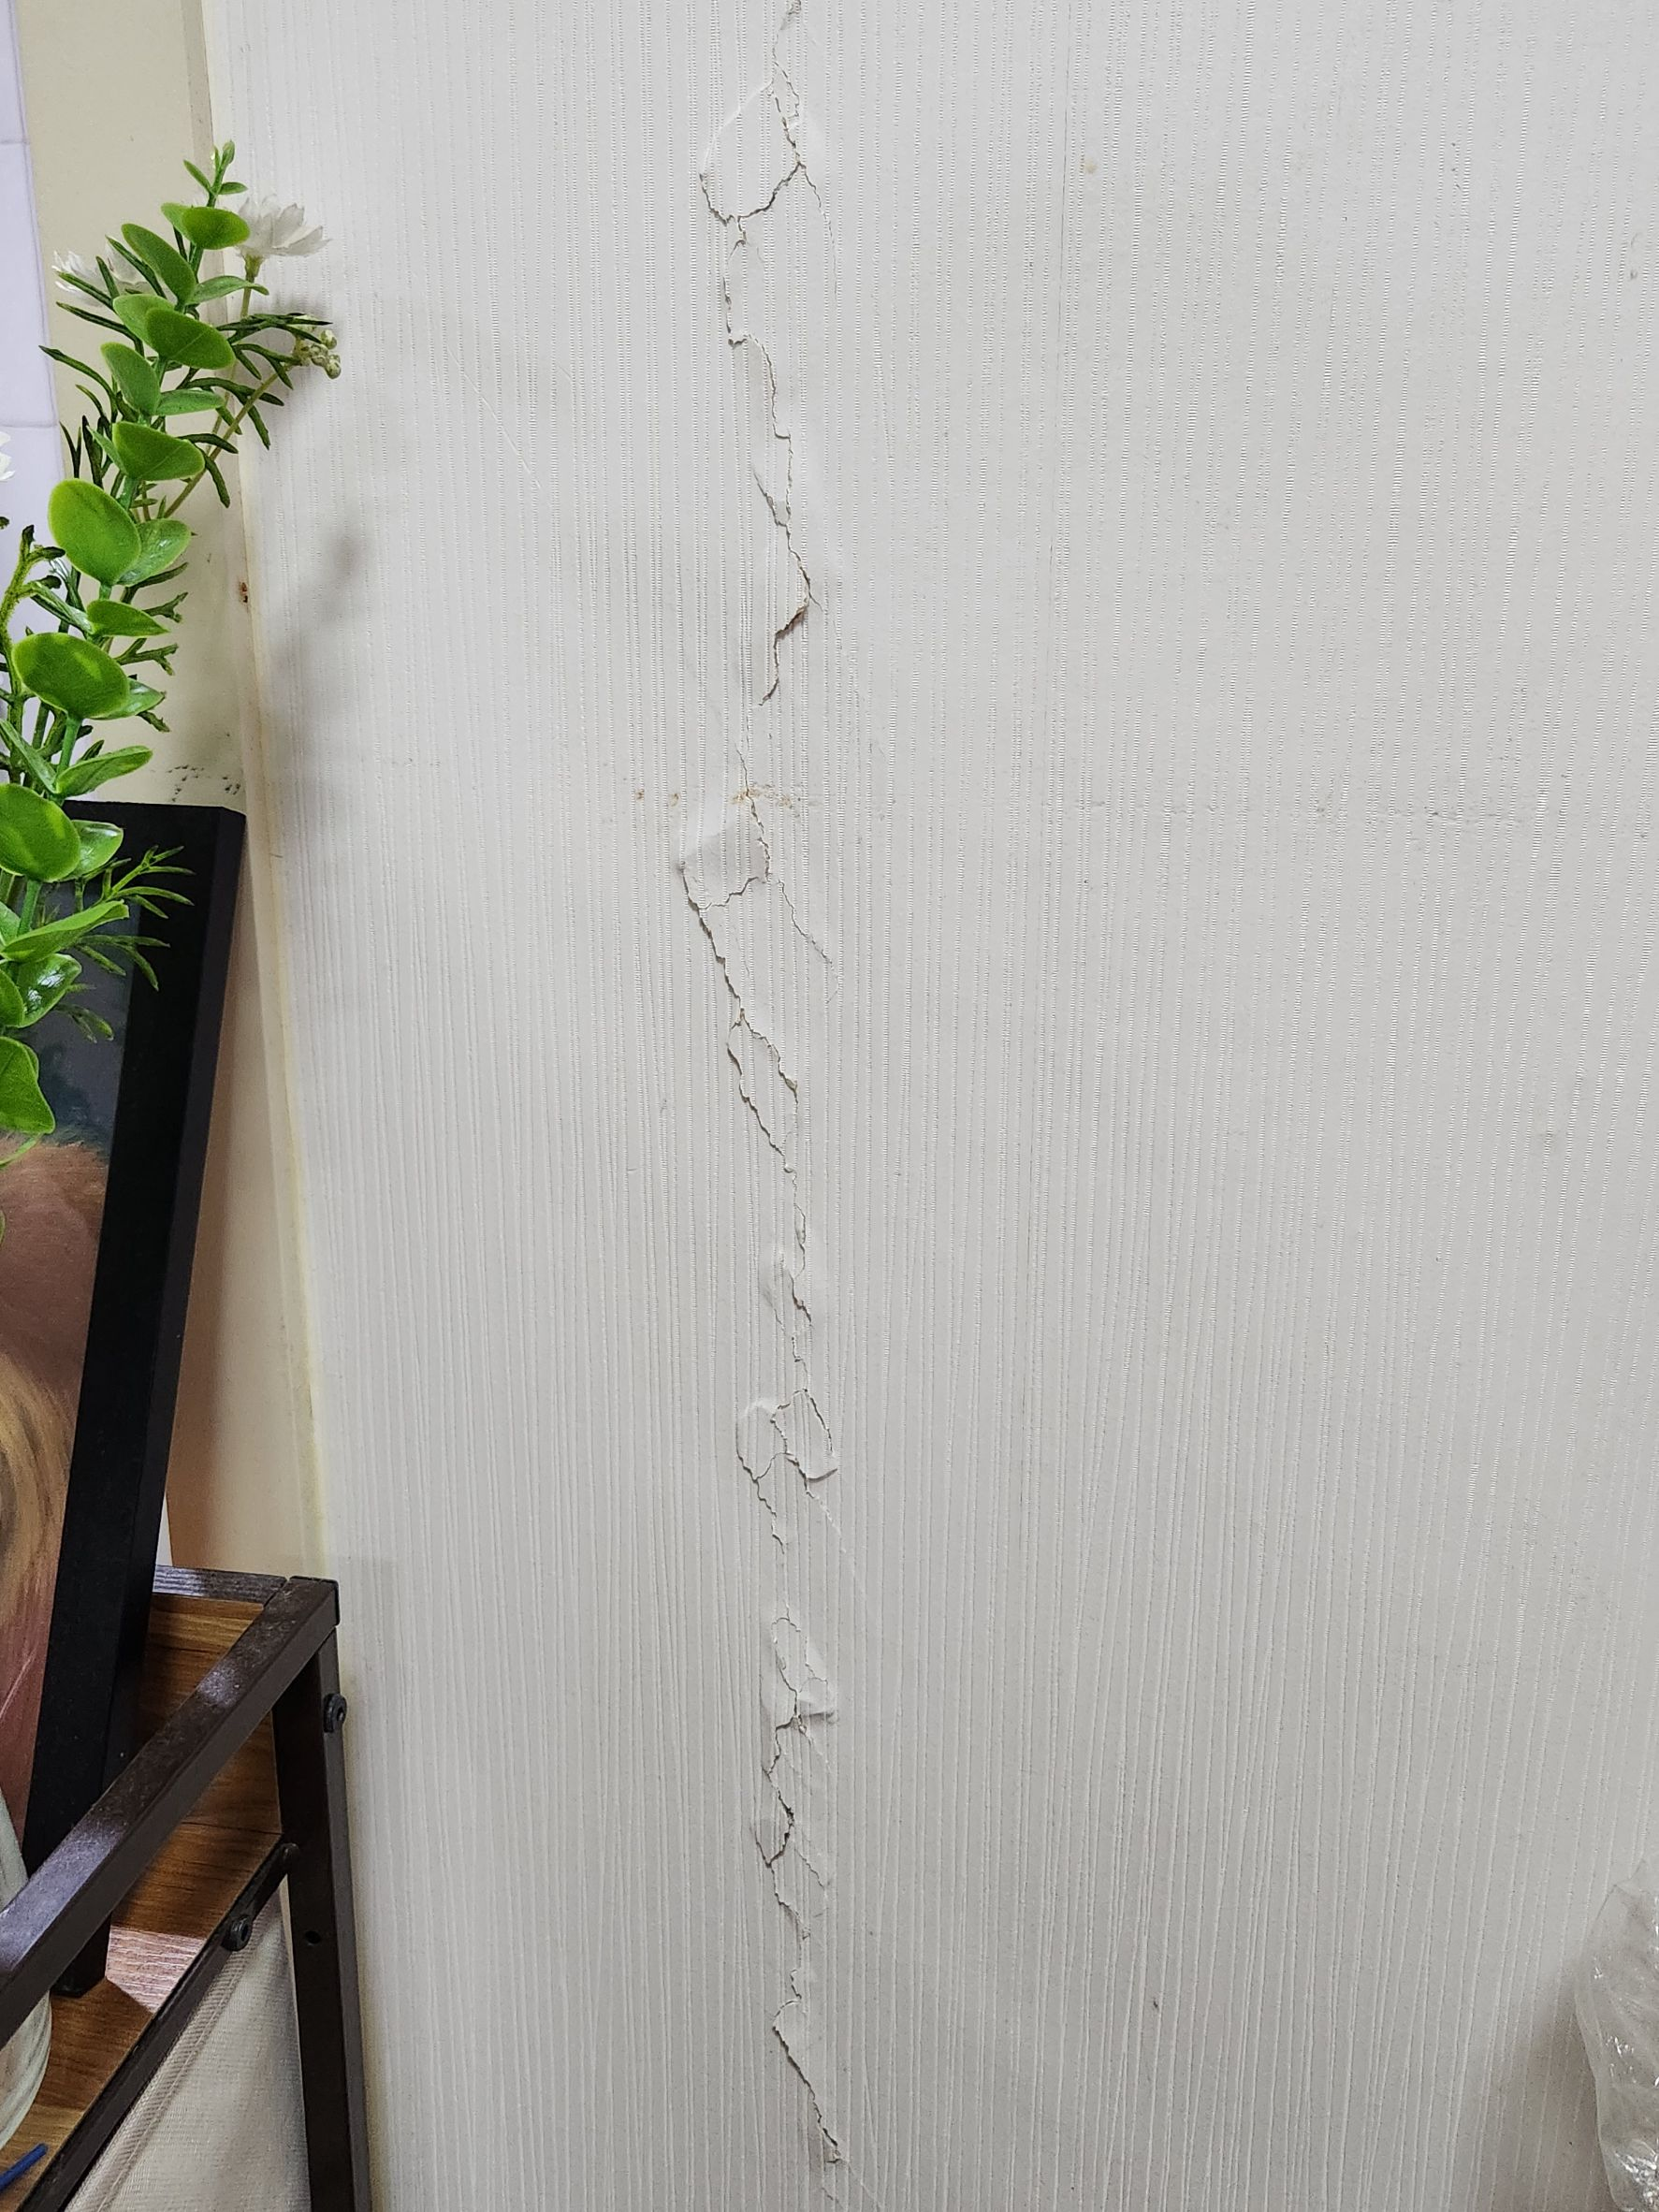Medium: (538, 122, 981, 2175)
